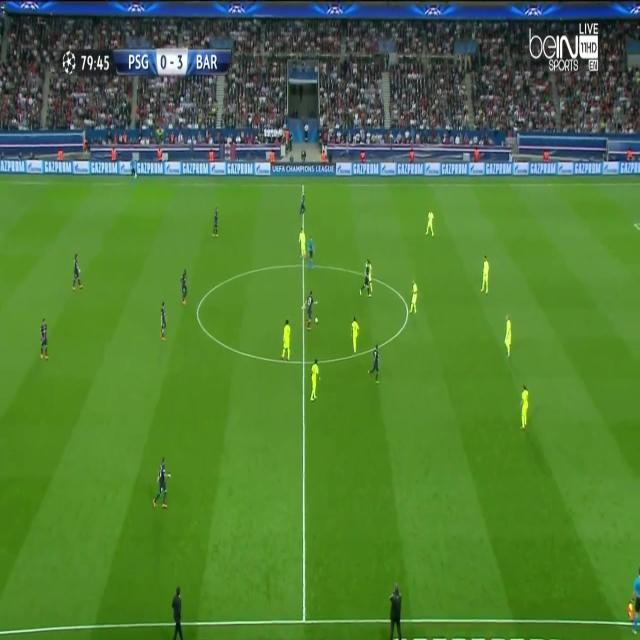Ball: (312, 315, 320, 325)
Player: (151, 454, 174, 512), (70, 250, 86, 299), (364, 344, 382, 384), (303, 288, 318, 333), (37, 316, 51, 364), (478, 251, 492, 298), (356, 260, 372, 299), (519, 382, 531, 433), (501, 311, 514, 358), (280, 318, 293, 364), (309, 357, 322, 403), (348, 314, 362, 356), (157, 296, 168, 348), (406, 276, 419, 316), (180, 262, 190, 310), (424, 206, 436, 239), (297, 192, 308, 219), (299, 225, 307, 262), (212, 206, 220, 240)
Referee: (629, 564, 640, 633), (306, 235, 315, 278)
